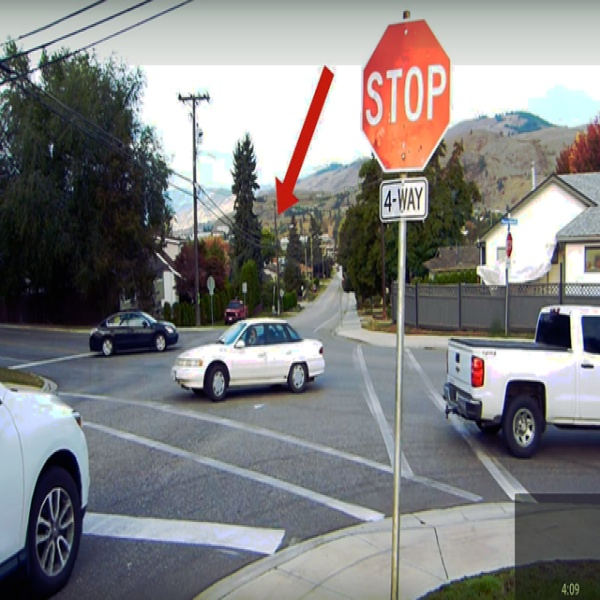stop: (361, 23, 452, 171)
